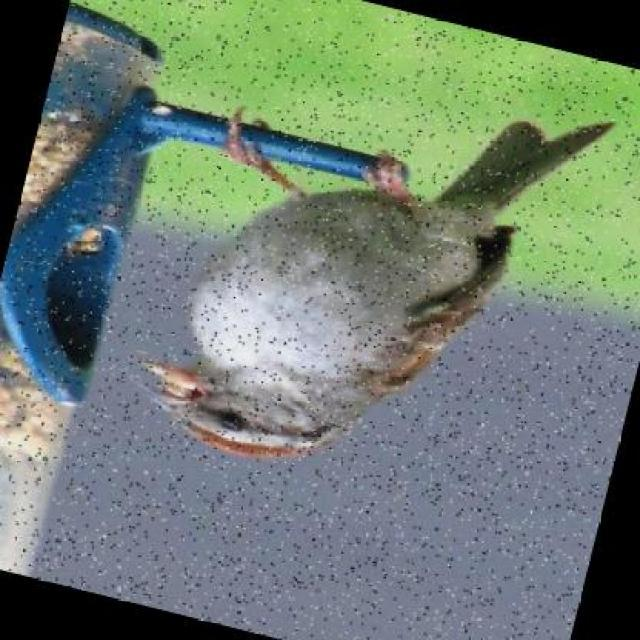Bird: (139, 105, 620, 465)
